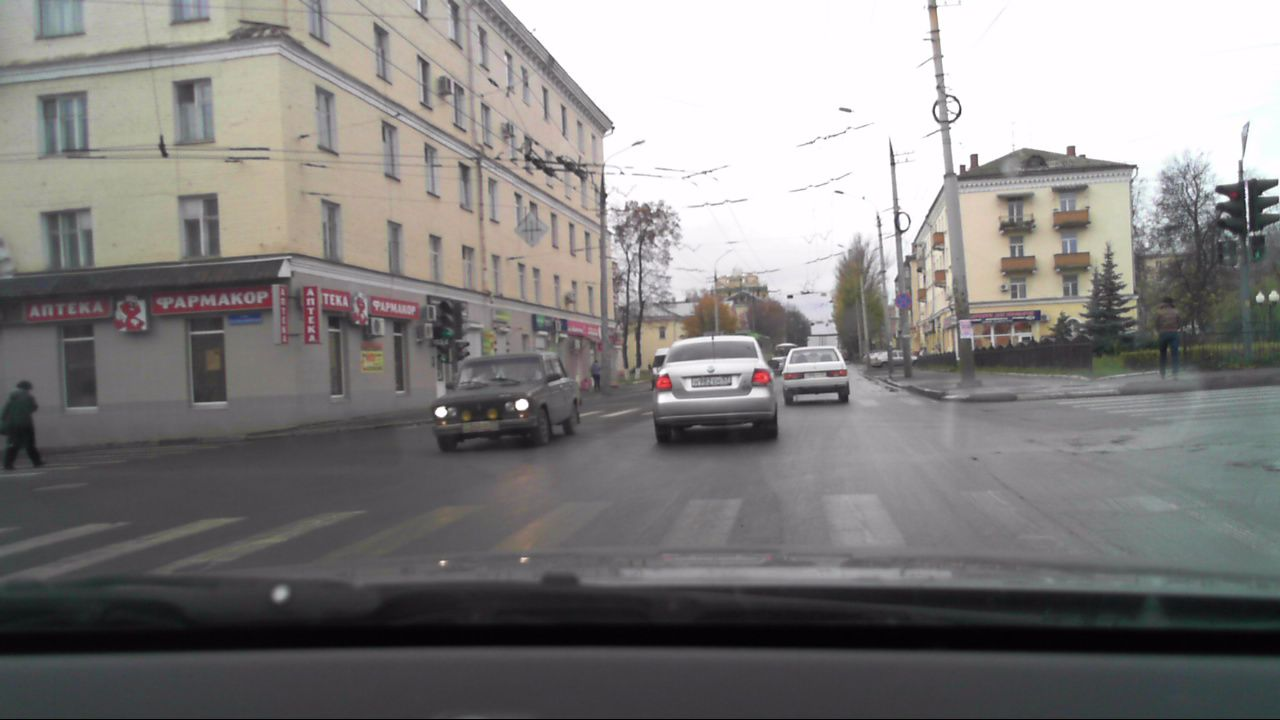No Parking: (896, 292, 917, 312)
